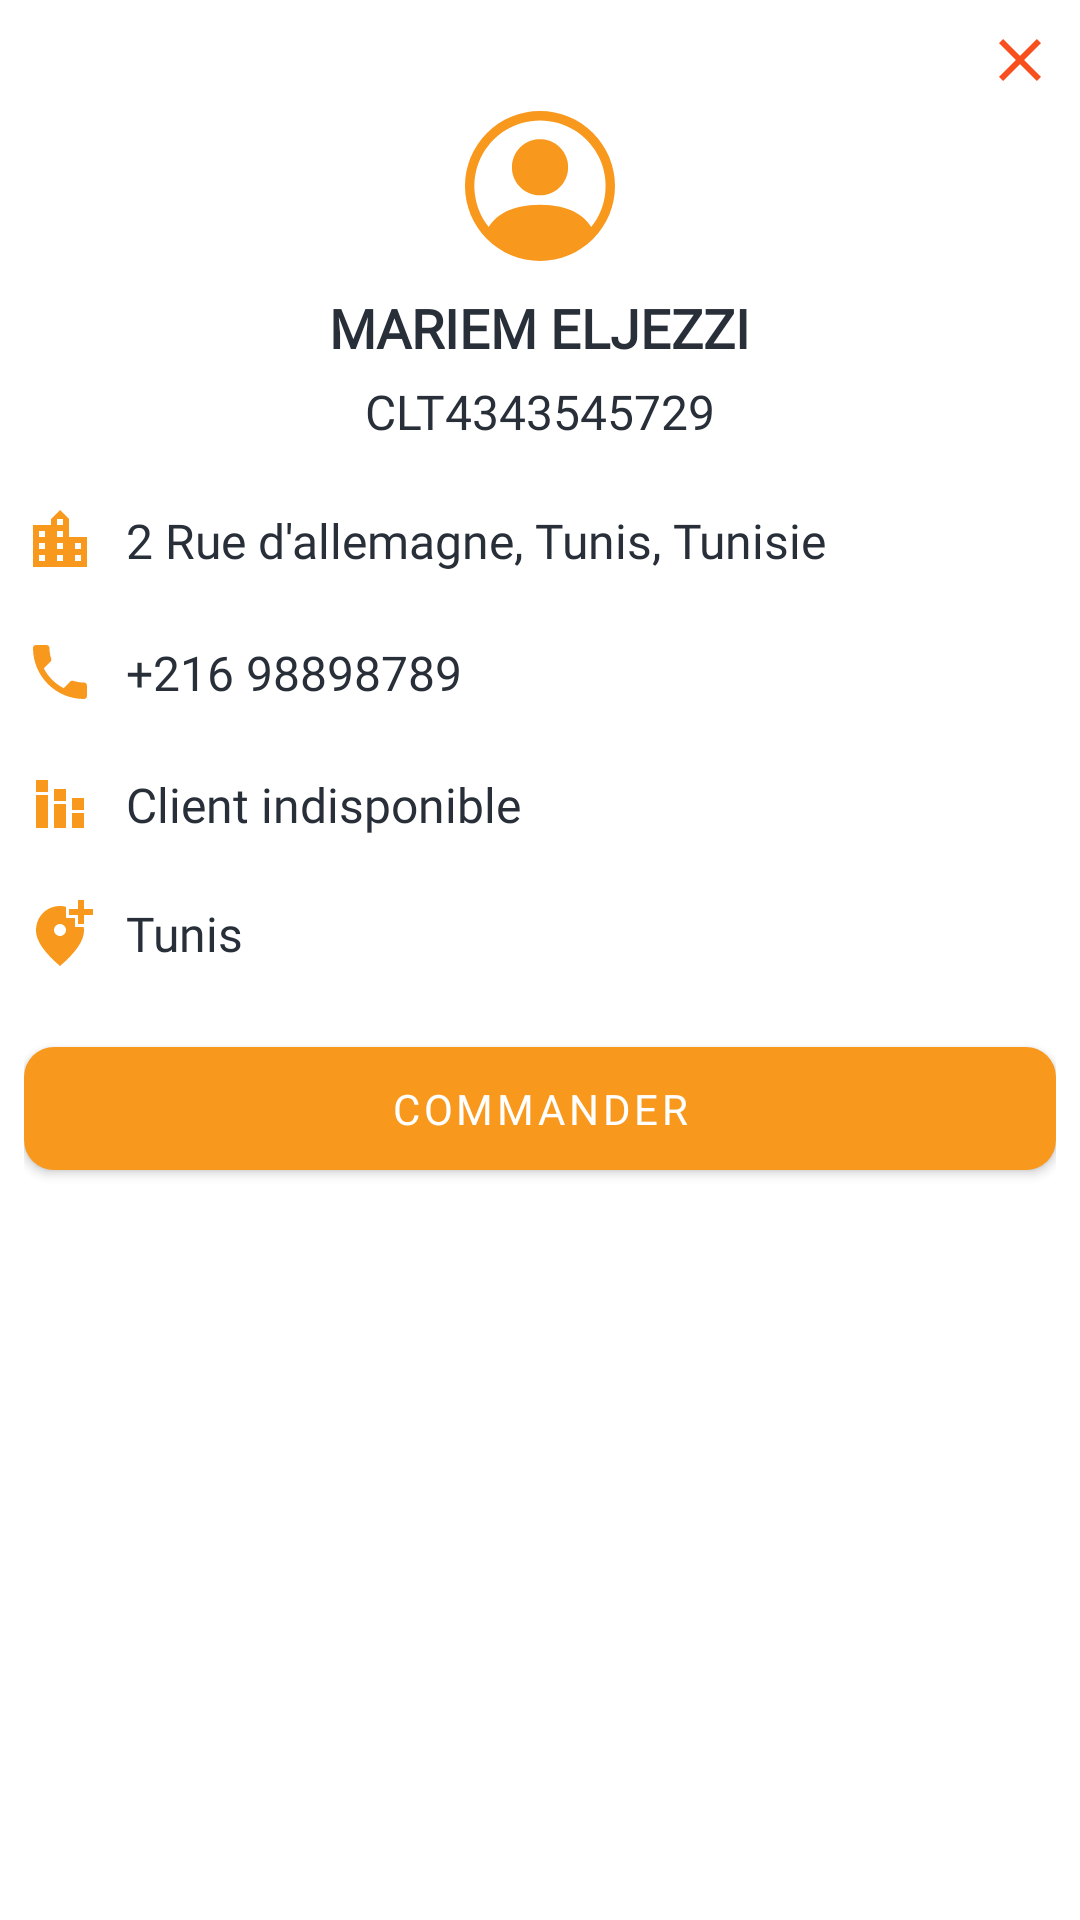

Named icons in this screenshot (1080*1920) and their bounding boxes, box=[x1, y1, x2, y2]:
add location: box=[36, 900, 93, 966]
close: box=[999, 39, 1041, 81]
iconpersonbig: box=[465, 111, 615, 261]
location city: box=[33, 510, 87, 567]
phone: box=[33, 645, 87, 699]
stacked bar chart: box=[36, 780, 84, 828]
